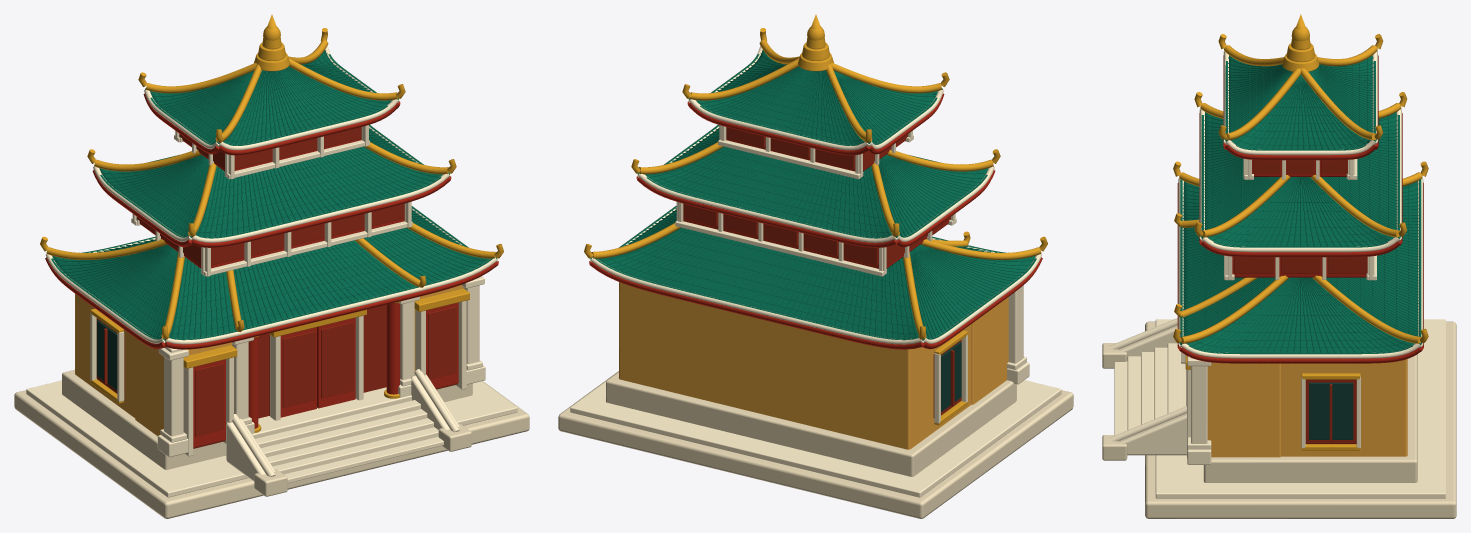
File: chau-doc.glb
3 views of the same model, side by side, from view 1: azimuth 30°, elevation 25°; view 2: azimuth 150°, elevation 25°; view 3: azimuth 270°, elevation 25° (orthographic). The views are drawn at different scales.
Parts seen in each view (by area): view 1: MIẾU_BÀ_CHÚA_XỨ_V2; view 2: MIẾU_BÀ_CHÚA_XỨ_V2; view 3: MIẾU_BÀ_CHÚA_XỨ_V2.
Part boxes in pixels (<box>): MIẾU_BÀ_CHÚA_XỨ_V2: <box>14,14,529,518</box>; MIẾU_BÀ_CHÚA_XỨ_V2: <box>558,14,1073,518</box>; MIẾU_BÀ_CHÚA_XỨ_V2: <box>1102,14,1456,518</box>.
Size of the model in its own units: 1.36 by 1.45 by 1.12.
